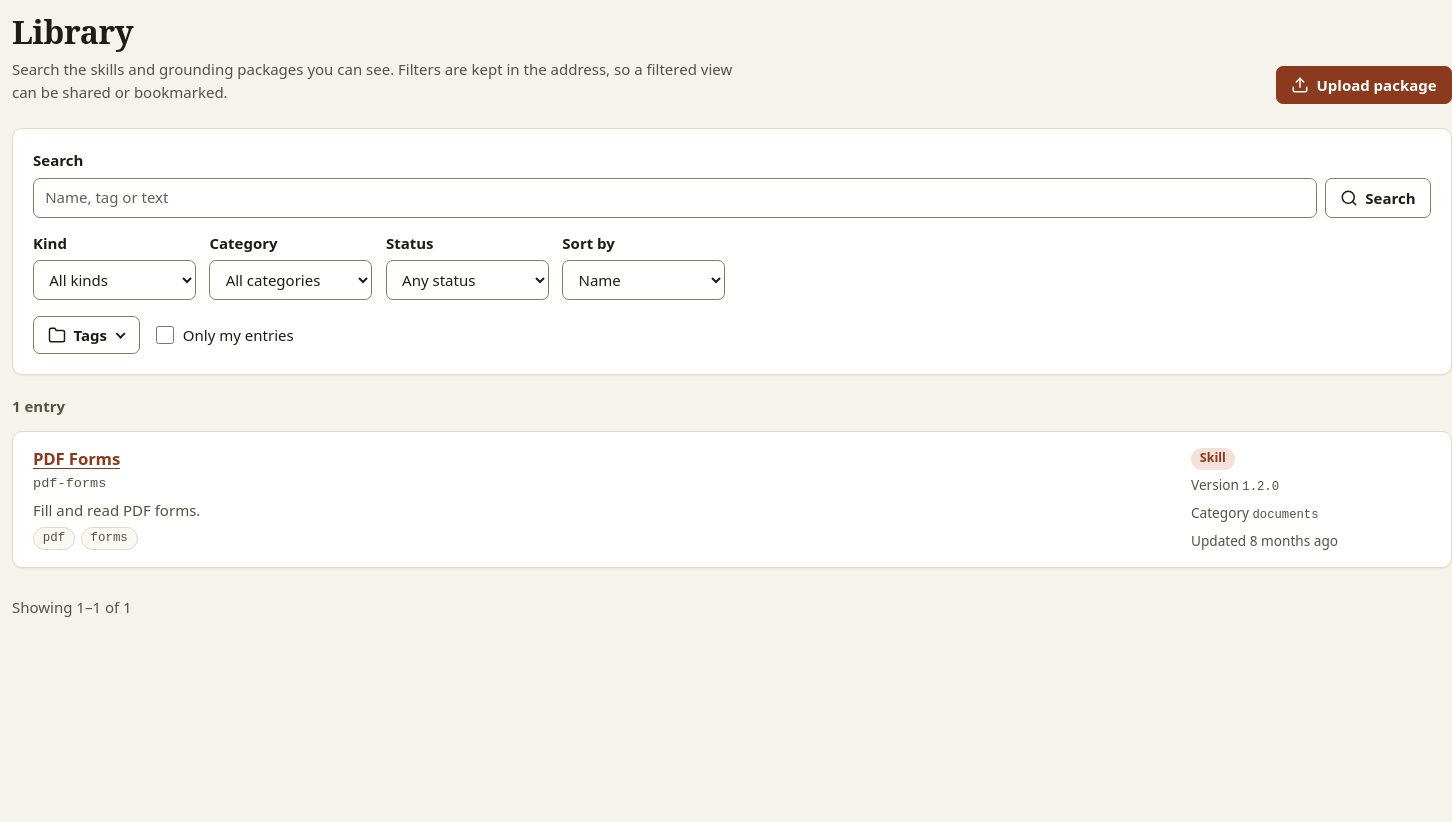
Test case: Library: filters are kept in the address › says so when the tags cannot be loaded
This screenshot has width=1452, height=822.
Expected: the link "PDF Forms" is shown, left=33, top=447, right=120, bottom=470
Step 1. Click the heading "Tags" → [86, 335], box left=33, top=316, right=140, bottom=354
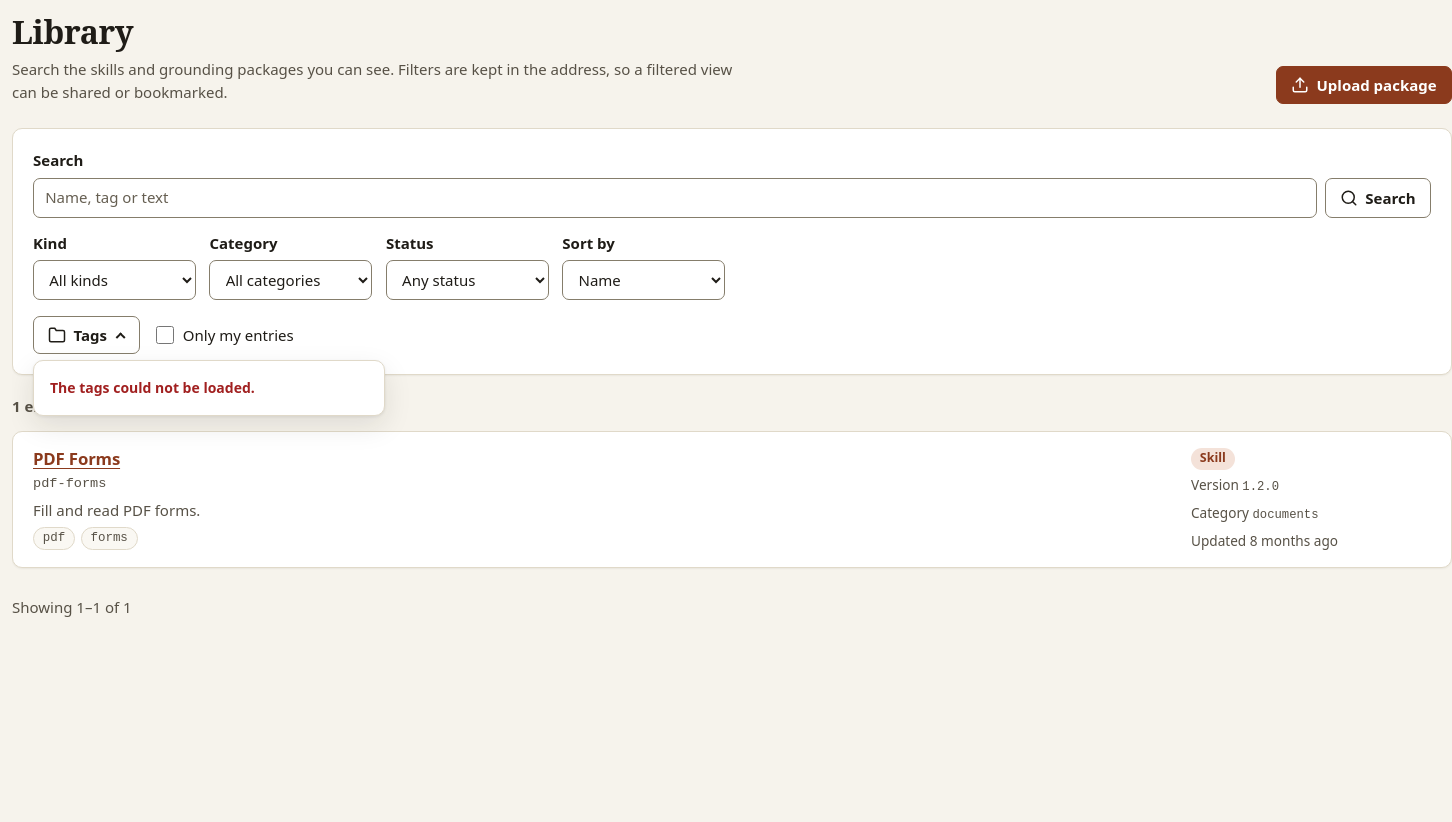
Now the text "The tags could not be loaded." is shown, box left=50, top=378, right=255, bottom=397
